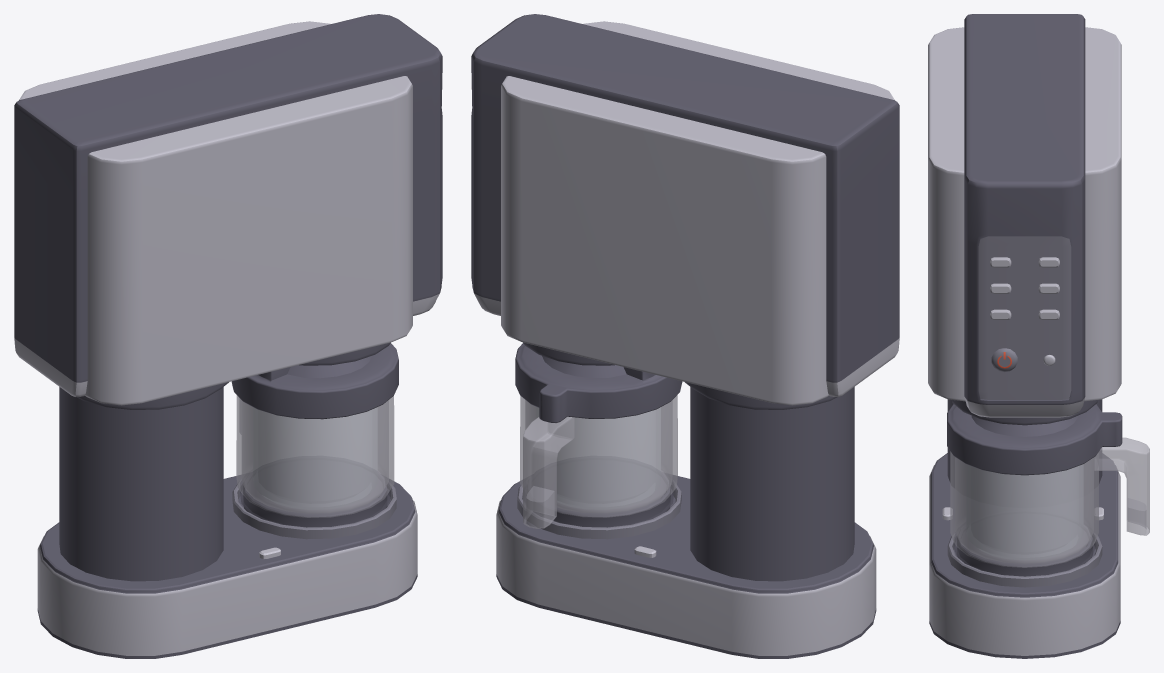
File: Ice_Cream_Maker_M.fbx
3 renders of one model, left to right at view 1: azimuth 30°, elevation 25°; view 2: azimuth 150°, elevation 25°; view 3: azimuth 270°, elevation 25°, orthographic. The views are drawn at different scales.
Visible parts, largest first — view 1: Ice_Cream_Machine_01, Mixer_02, Bottle_02, Cap_01, Part_02; view 2: Ice_Cream_Machine_01, Mixer_02, Bottle_02, Cap_01, Part_02; view 3: Ice_Cream_Machine_01, Mixer_02, Bottle_02, Cap_01, Part_02.
Part boxes in pixels (left/top/right/bottom): Ice_Cream_Machine_01: left=14, top=14, right=442, bottom=658; Mixer_02: left=236, top=395, right=394, bottom=527; Bottle_02: left=253, top=408, right=376, bottom=509; Cap_01: left=231, top=343, right=398, bottom=419; Part_02: left=243, top=485, right=387, bottom=527; Ice_Cream_Machine_01: left=471, top=14, right=899, bottom=658; Mixer_02: left=520, top=395, right=677, bottom=528; Bottle_02: left=537, top=407, right=660, bottom=509; Cap_01: left=515, top=343, right=682, bottom=422; Part_02: left=553, top=485, right=670, bottom=527; Ice_Cream_Machine_01: left=928, top=14, right=1121, bottom=658; Mixer_02: left=950, top=437, right=1149, bottom=576; Bottle_02: left=967, top=465, right=1082, bottom=559; Cap_01: left=947, top=404, right=1122, bottom=475; Part_02: left=957, top=536, right=1092, bottom=576.
Size of the model in its own units: 4.54 by 5.93 by 2.47.
2 materials, 2 textured.
